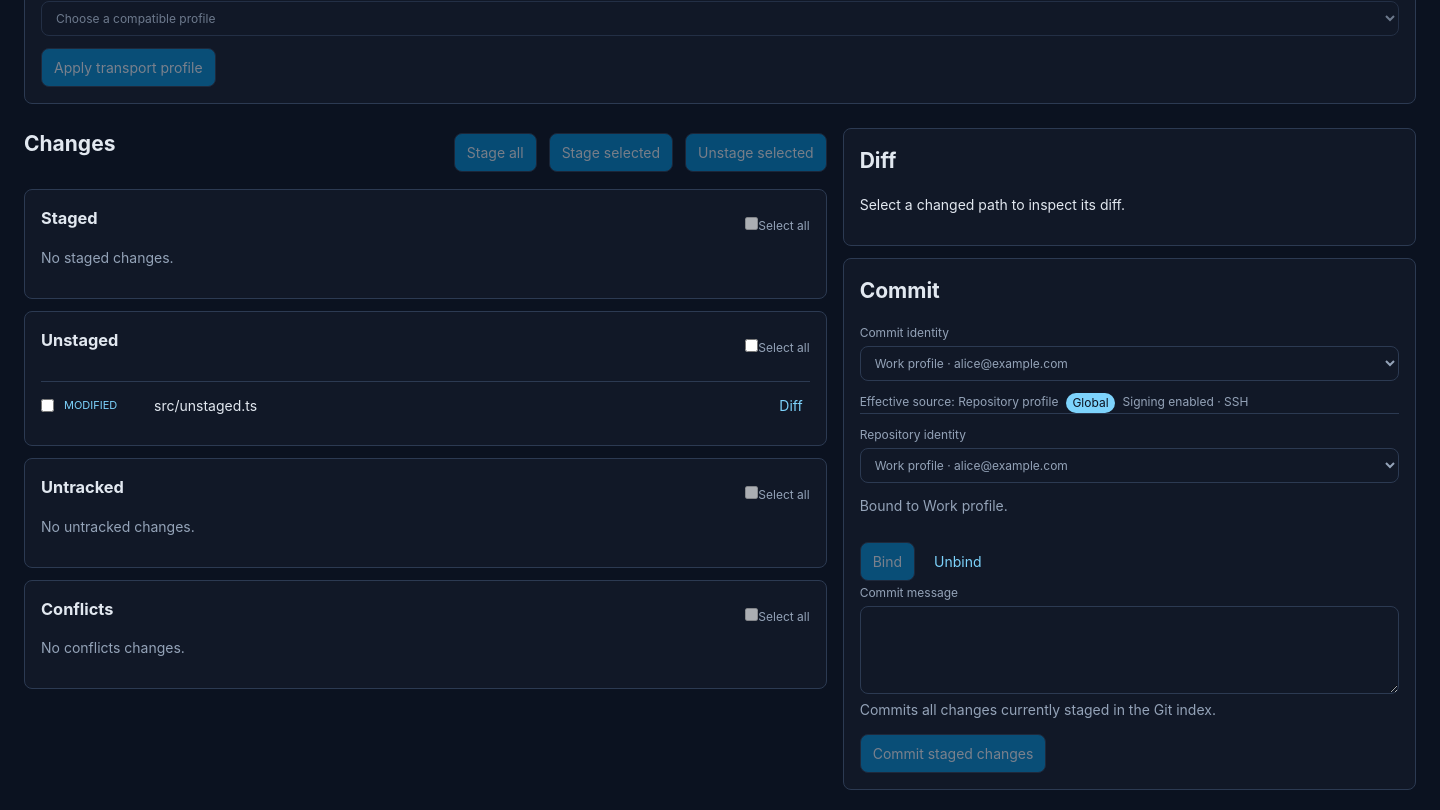
Test case: RepositoryView › explains unavailable nonUtf8Content diff content
The image size is (1440, 810).
(page scrolled)
Click the button with aria-label "View diff for src/unstaged.ts": (791, 405) [772,390,810,421]
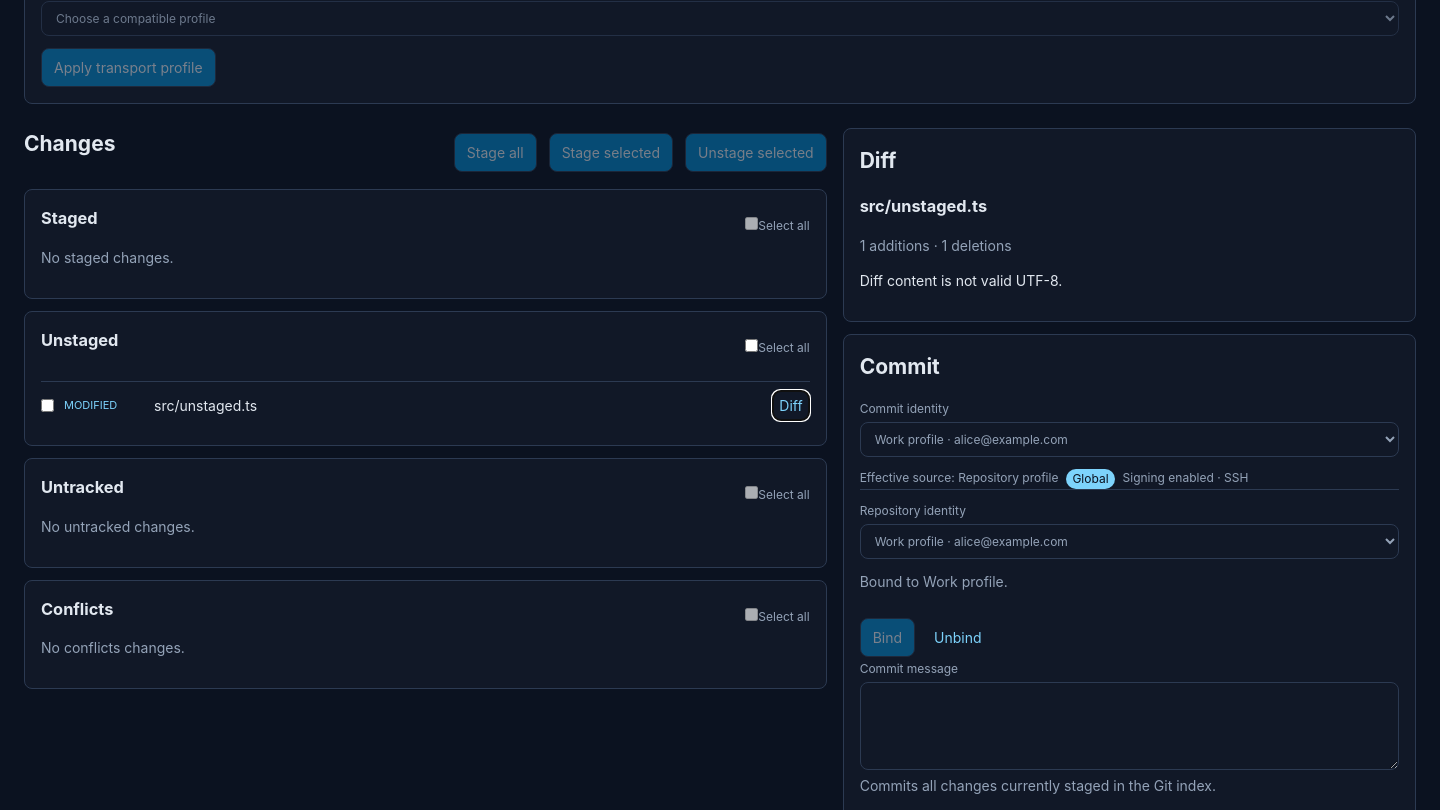
Expected: the text "Diff content is not valid UTF-8." is shown, [860,272,1062,289]
